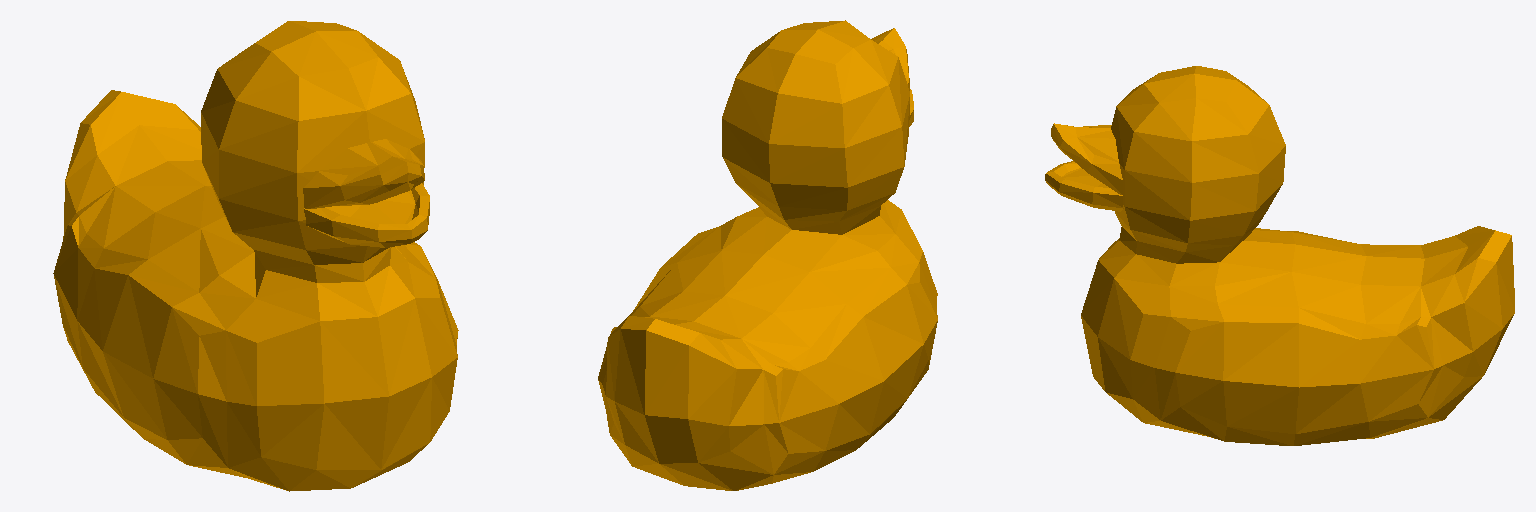
URDF robot description (rubber_duck):
<?xml version="1.0" ?>
<!-- Rubber duck scene object. Mesh (RubberDuck.obj) is authored in centimeters and
     Y-up, so scale 0.01 converts to meters and rpy rotates Y-up -> Z-up. Footprint
     after scaling is ~0.040 x 0.072 m, ~0.058 m tall. -->
<robot name="rubber_duck">
  <dynamics damping="0.5" friction="0.9"/>
  <link name="baseLink">
    <inertial>
      <mass value="0.05"/>
      <origin xyz="0 0 0"/>
      <inertia ixx="3.6e-5" ixy="0" ixz="0" iyy="2.8e-5" iyz="0" izz="2.1e-5"/>
    </inertial>
    <contact>
      <lateral_friction value="0.9"/>
      <rolling_friction value="0.5"/>
      <stiffness value="30000"/>
      <damping value="1000"/>
    </contact>
    <visual>
      <origin rpy="1.5708 0 0" xyz="0 0 0"/>
      <geometry>
        <mesh filename="RubberDuck.obj" scale="0.01 0.01 0.01"/>
      </geometry>
    </visual>
    <collision>
      <origin rpy="1.5708 0 0" xyz="0 0 0"/>
      <geometry>
        <mesh filename="RubberDuck.obj" scale="0.01 0.01 0.01"/>
      </geometry>
    </collision>
  </link>
</robot>

--- What the picture shows (computed from the rendered views, not written in the file) ---
Views: 3 orthographic renders of the robot side by side, from view 1: azimuth 30°, elevation 25°; view 2: azimuth 150°, elevation 25°; view 3: azimuth 270°, elevation 25°.
Model rubber_duck with 1 links and 0 joints (none), rooted at baseLink, posed every joint at zero.
Links seen in each view (by area): view 1: baseLink; view 2: baseLink; view 3: baseLink.
Link boxes in pixels (left/top/right/bottom): baseLink: left=53, top=21, right=458, bottom=491; baseLink: left=598, top=20, right=937, bottom=490; baseLink: left=1045, top=66, right=1514, bottom=445.
Size in the robot's own frame: 0.0397 by 0.0716 by 0.0582 metres.
1 mesh visuals loaded from 1 distinct referenced files (1 OBJ).
